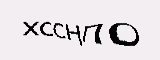Ң: (64, 20, 84, 53)
